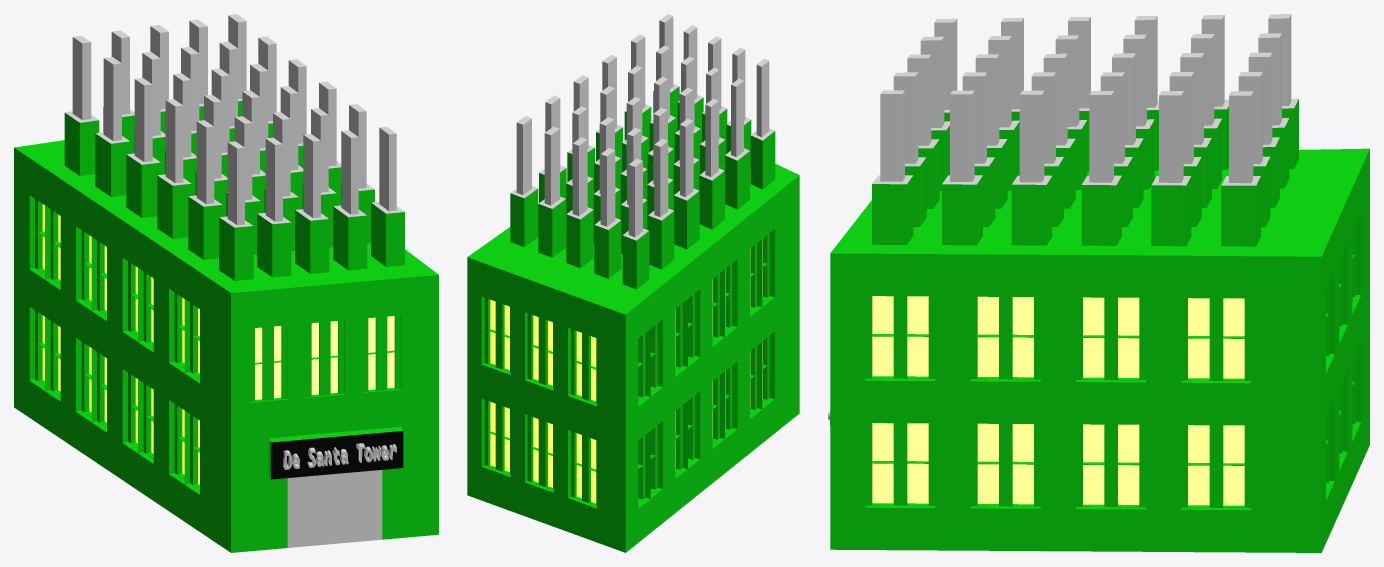
File: de_santa_tower.fbx
3 views of the same model, side by side, from view 1: azimuth 30°, elevation 25°; view 2: azimuth 150°, elevation 25°; view 3: azimuth 270°, elevation 25° (orthographic). The views are drawn at different scales.
Visible parts, largest first — view 1: Plane, Text; view 2: Plane; view 3: Plane.
Boxes of the visible parts, x1,y1,x2,y2 form: Plane: (14,14,438,552); Text: (283,443,396,469); Plane: (467,14,799,552); Plane: (830,14,1369,552).
Bounding box in the file's own units: 244 × 469 × 518.
